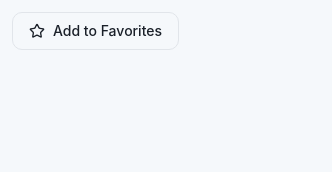
FavoriteButton › starts unfavorited and can be toggled on and off
Later steps or results of the test are not shown.
Step 1. Click the button "Add to Favorites" → {"x": 96, "y": 31}, box [12,12,179,50]
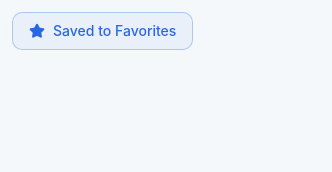
Expected: the button with aria-label "Remove sales.csv from favorites" is pressed, [12,12,193,50]
